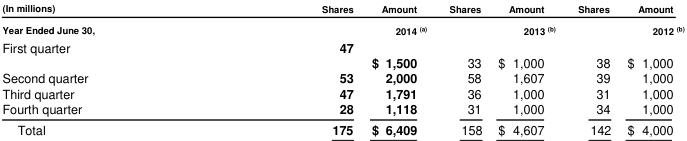table: (1, 0, 683, 137)
table column: (1, 0, 207, 137), (207, 0, 361, 137), (489, 0, 566, 137), (361, 0, 437, 137), (618, 0, 683, 137), (437, 0, 489, 137), (566, 0, 618, 137)
table column header: (1, 0, 683, 18)
table row: (1, 37, 683, 69), (1, 18, 683, 37), (1, 118, 683, 137), (1, 0, 683, 18), (1, 100, 683, 118), (1, 69, 683, 85), (1, 85, 683, 100)
table spanning cell: (207, 18, 437, 37), (437, 18, 566, 37), (566, 18, 683, 37)
